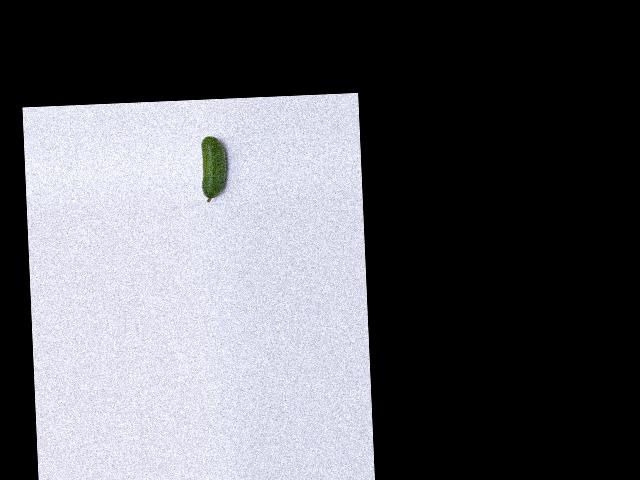cucumber: (200, 135, 228, 202)
